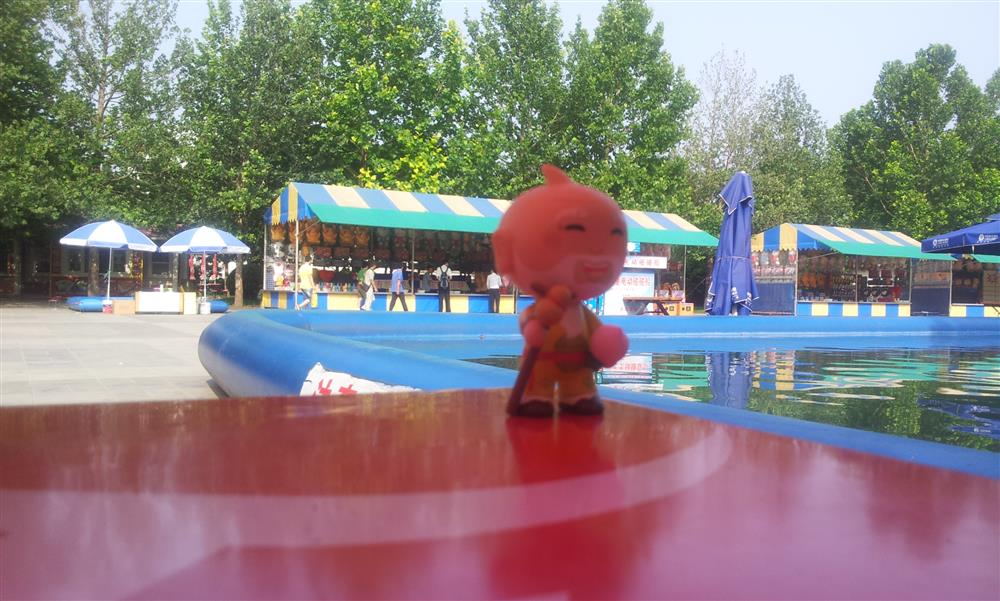toy_oldman: (470, 144, 637, 441)
